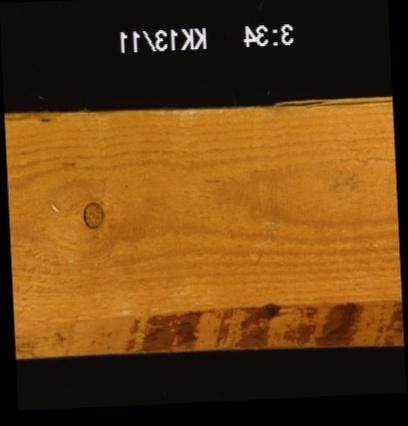dry_knot: (81, 199, 105, 229)
wave: (13, 301, 401, 351), (3, 110, 59, 127)
